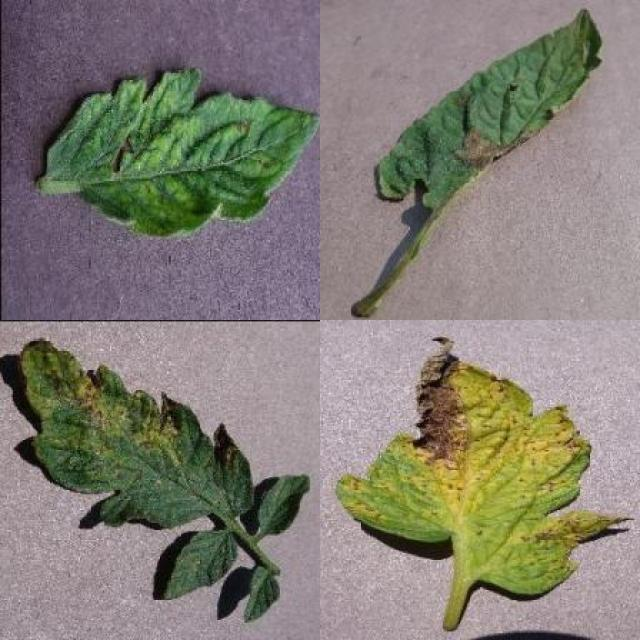Late Blight: (374, 7, 604, 210)
Mosaic Virus: (45, 68, 321, 236)
Septoria: (337, 334, 634, 597), (18, 338, 255, 528)
